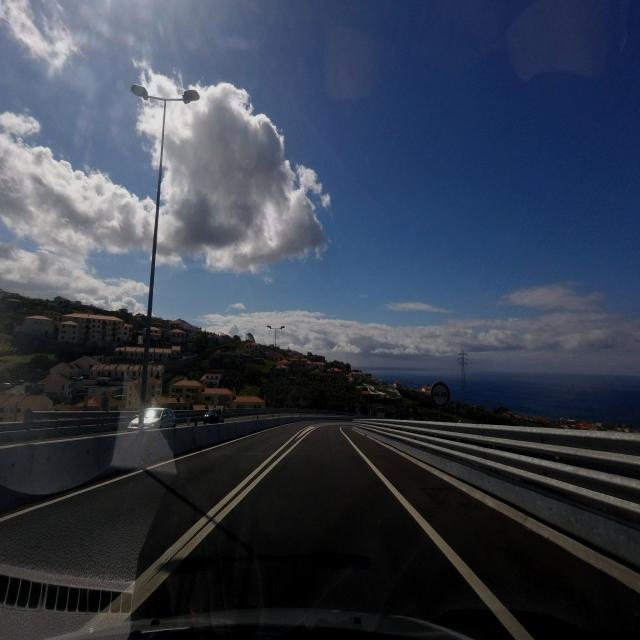car: (126, 406, 176, 434), (173, 408, 199, 426), (202, 409, 225, 424)
